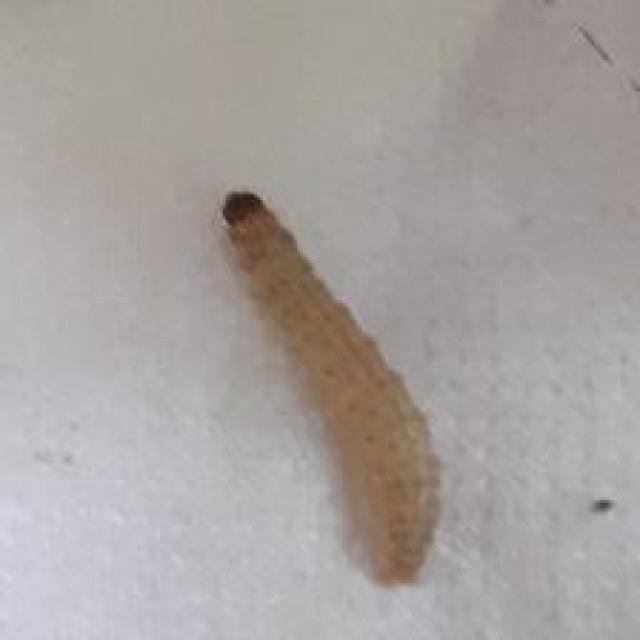white mucus: (194, 162, 468, 587)
